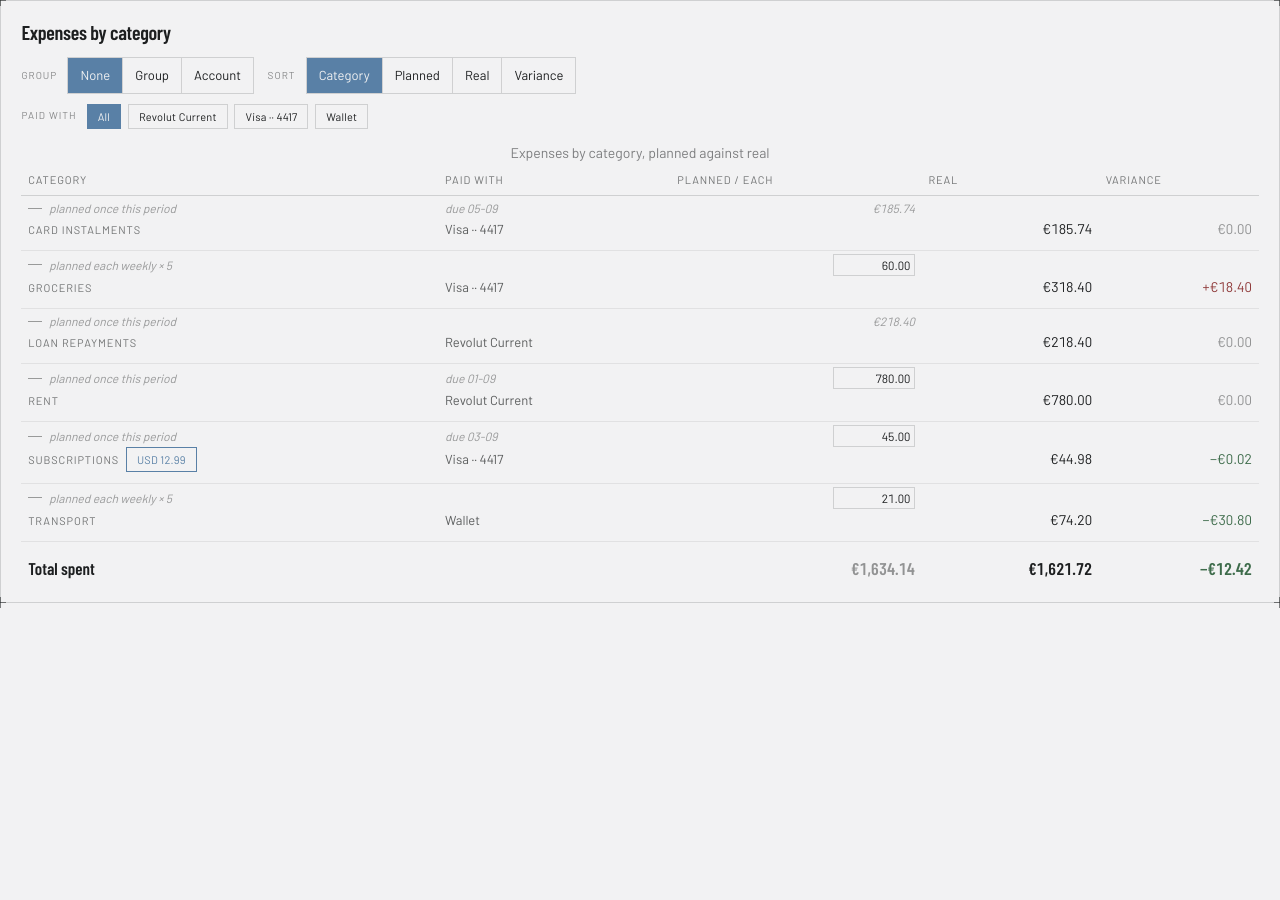
Test: ExpensesPage - grouping and sorting (BR-15) › groups by the account the money left
Expected: the column heading "Rent" is shown, [21, 389, 438, 421]
What coordinates should you click on to do the following:
click the radio button labelled "Account"
I would click on:
 (217, 75)
Its box is [181, 58, 253, 92].
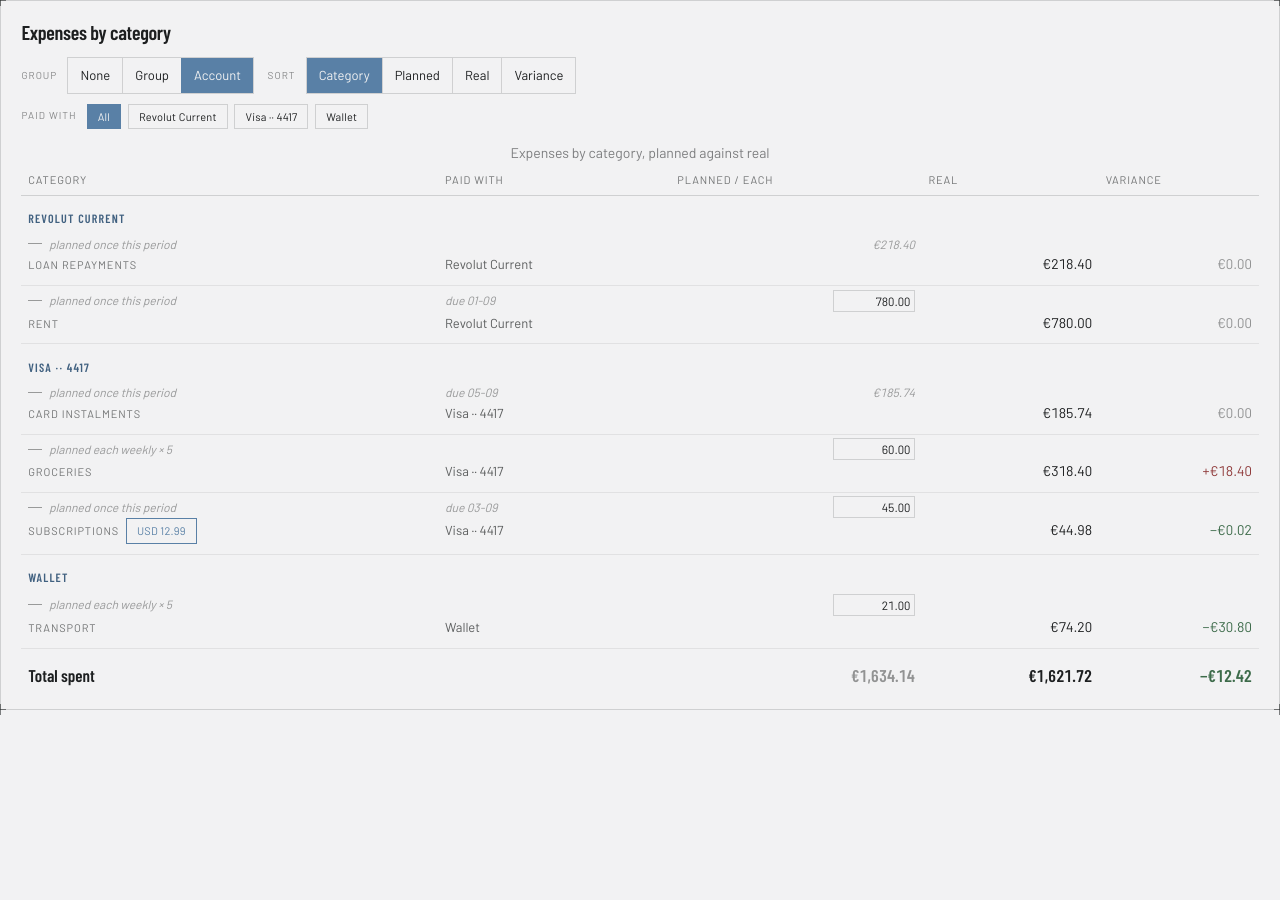
Now the column heading "Wallet" is shown, box [21, 554, 1259, 590]
Now the column heading "Revolut Current" is shown, box [21, 195, 1259, 231]
